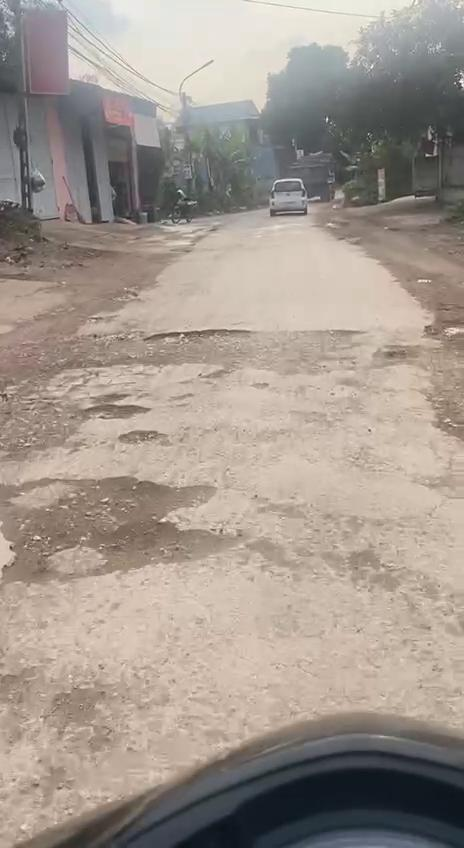pothole: (0, 469, 241, 592), (140, 324, 354, 374), (71, 401, 156, 422)
